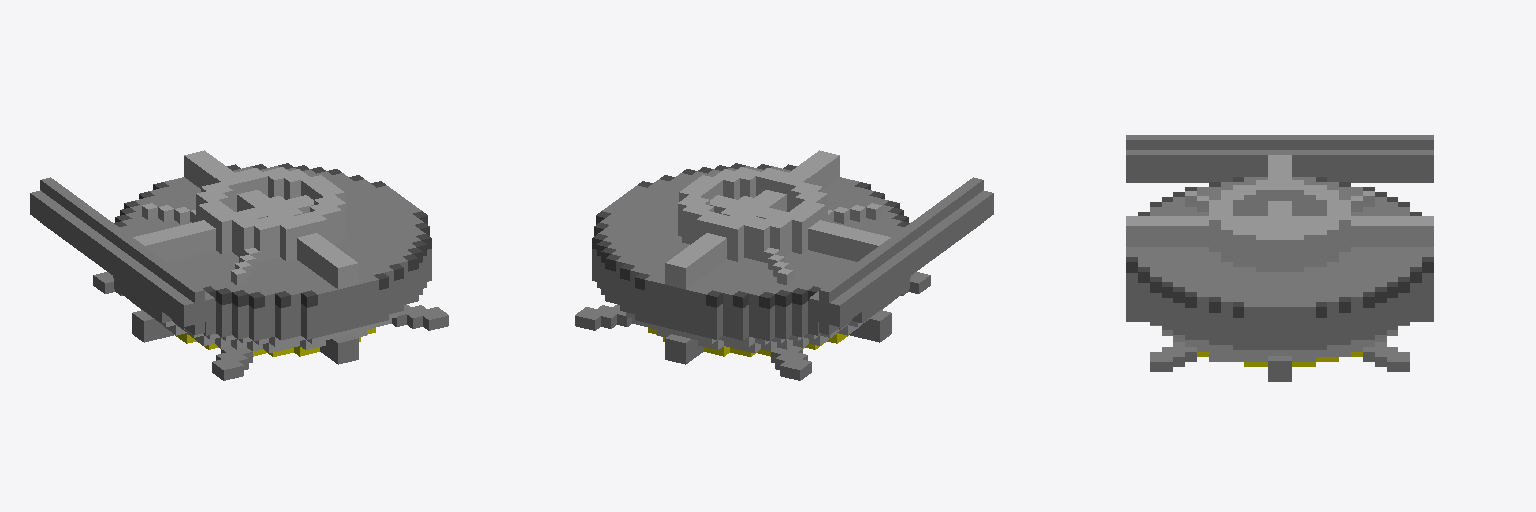
3 renders of one model, left to right at view 1: azimuth 30°, elevation 25°; view 2: azimuth 150°, elevation 25°; view 3: azimuth 270°, elevation 25°, orthographic.
Parts seen in each view (by area): view 1: object 1; view 2: object 1; view 3: object 1.
Part boxes in pixels (x1,y1,x2,y2): object 1: (30, 150, 448, 380); object 1: (575, 150, 993, 380); object 1: (1126, 135, 1433, 381).
Size of the model in its own units: 2.9 by 1 by 2.6.
Materials: 1 (1 with a texture image).